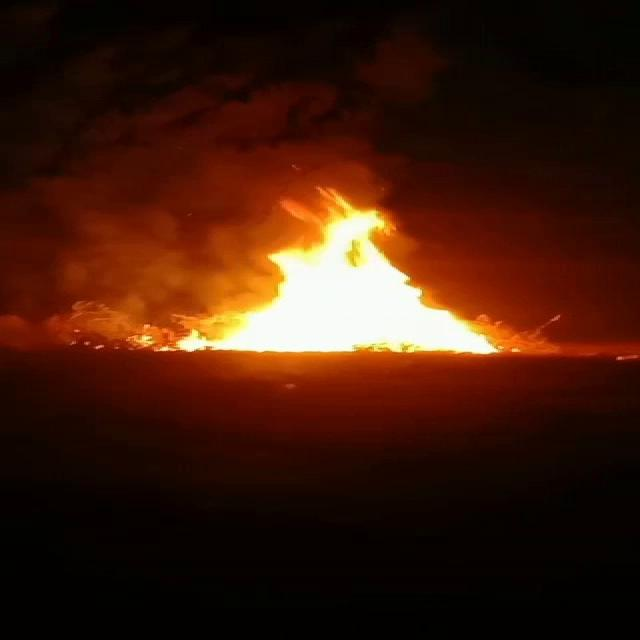Fire: (182, 200, 492, 353)
